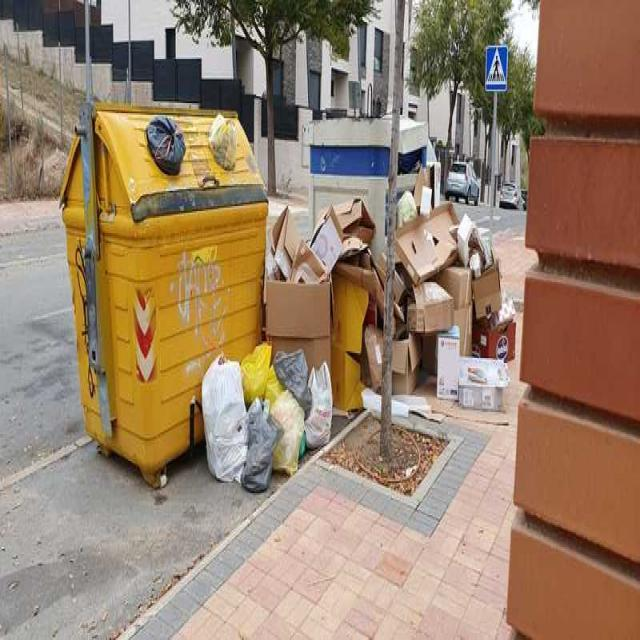garbage: (358, 191, 524, 429), (194, 338, 342, 494), (263, 201, 359, 432), (138, 106, 196, 182), (210, 108, 248, 196)
